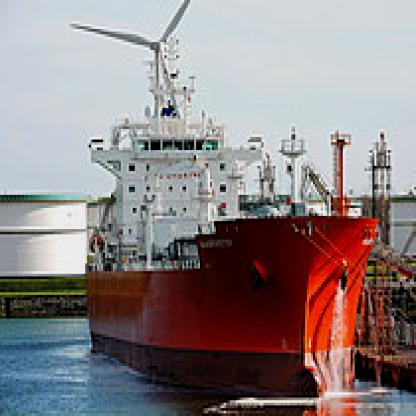Tanker: (74, 45, 376, 405)
